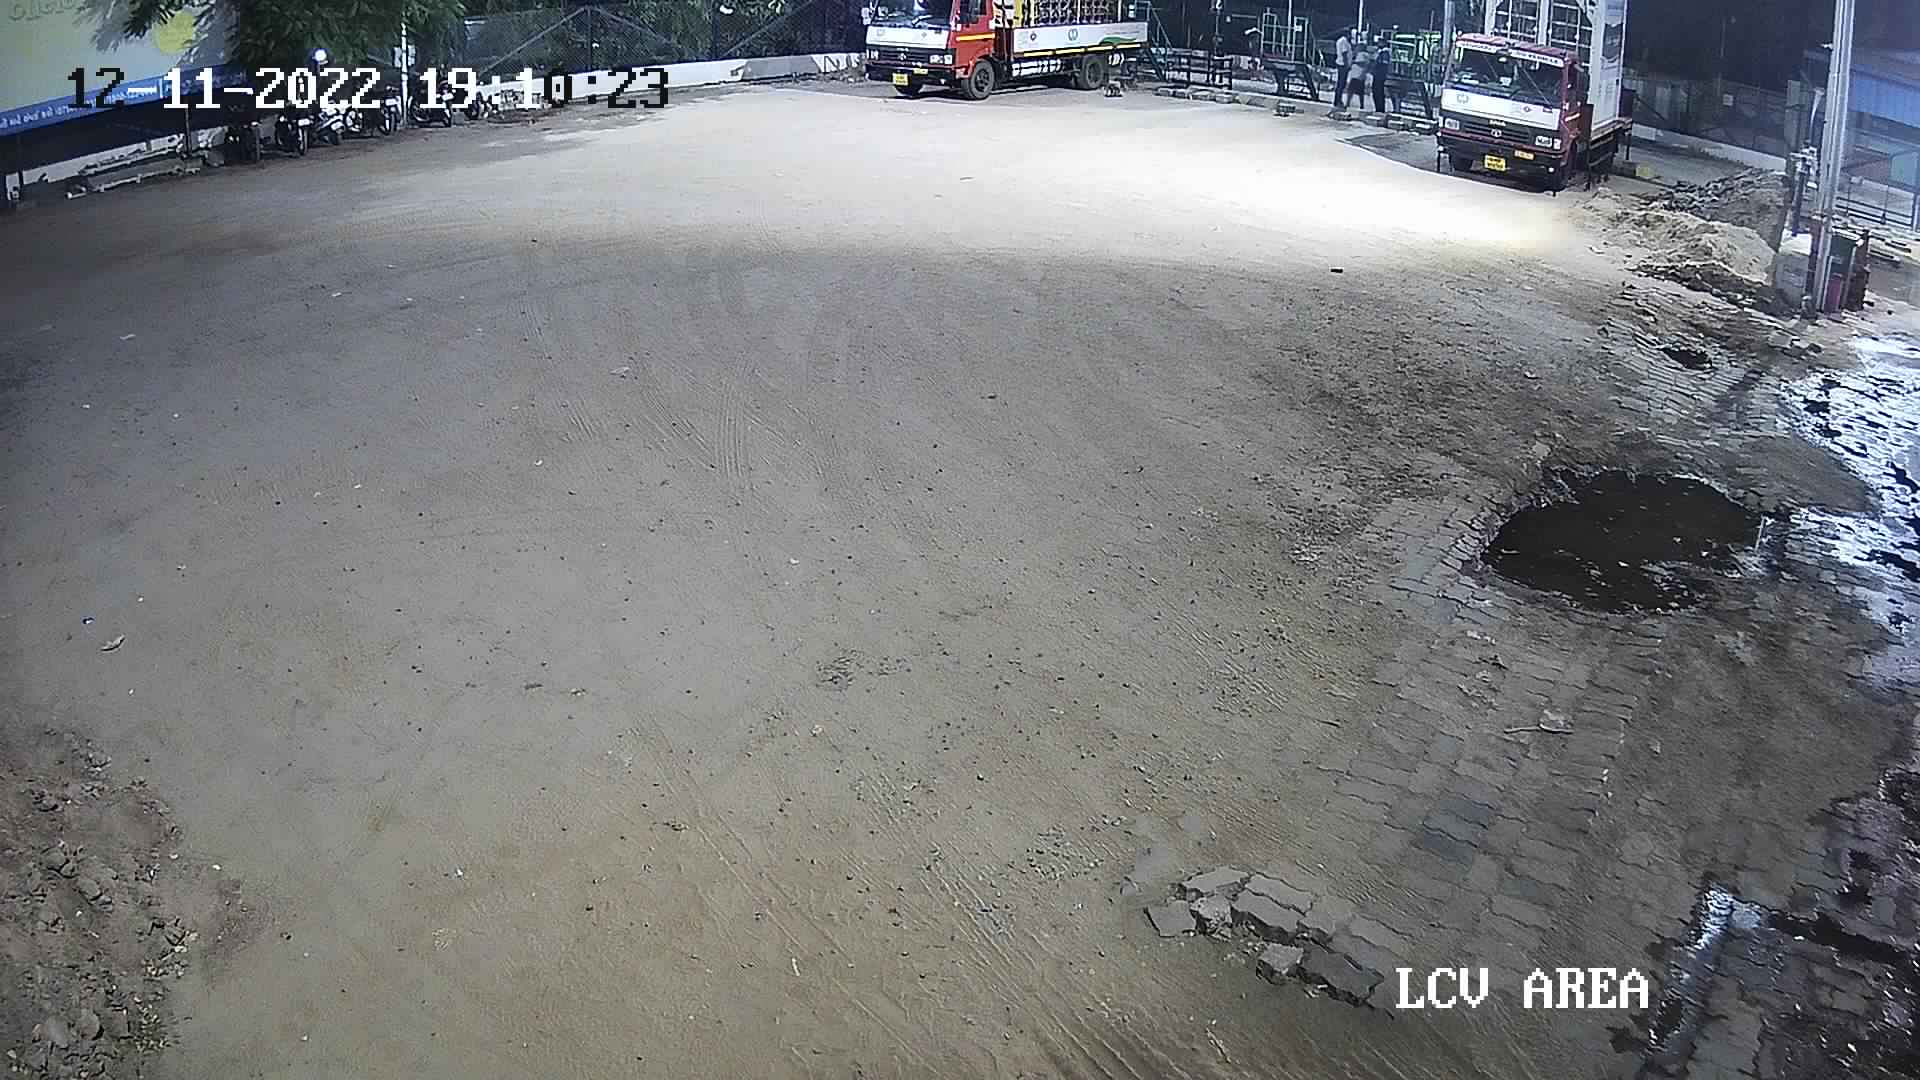HMV: (1424, 1, 1642, 196), (844, 0, 1164, 102)
